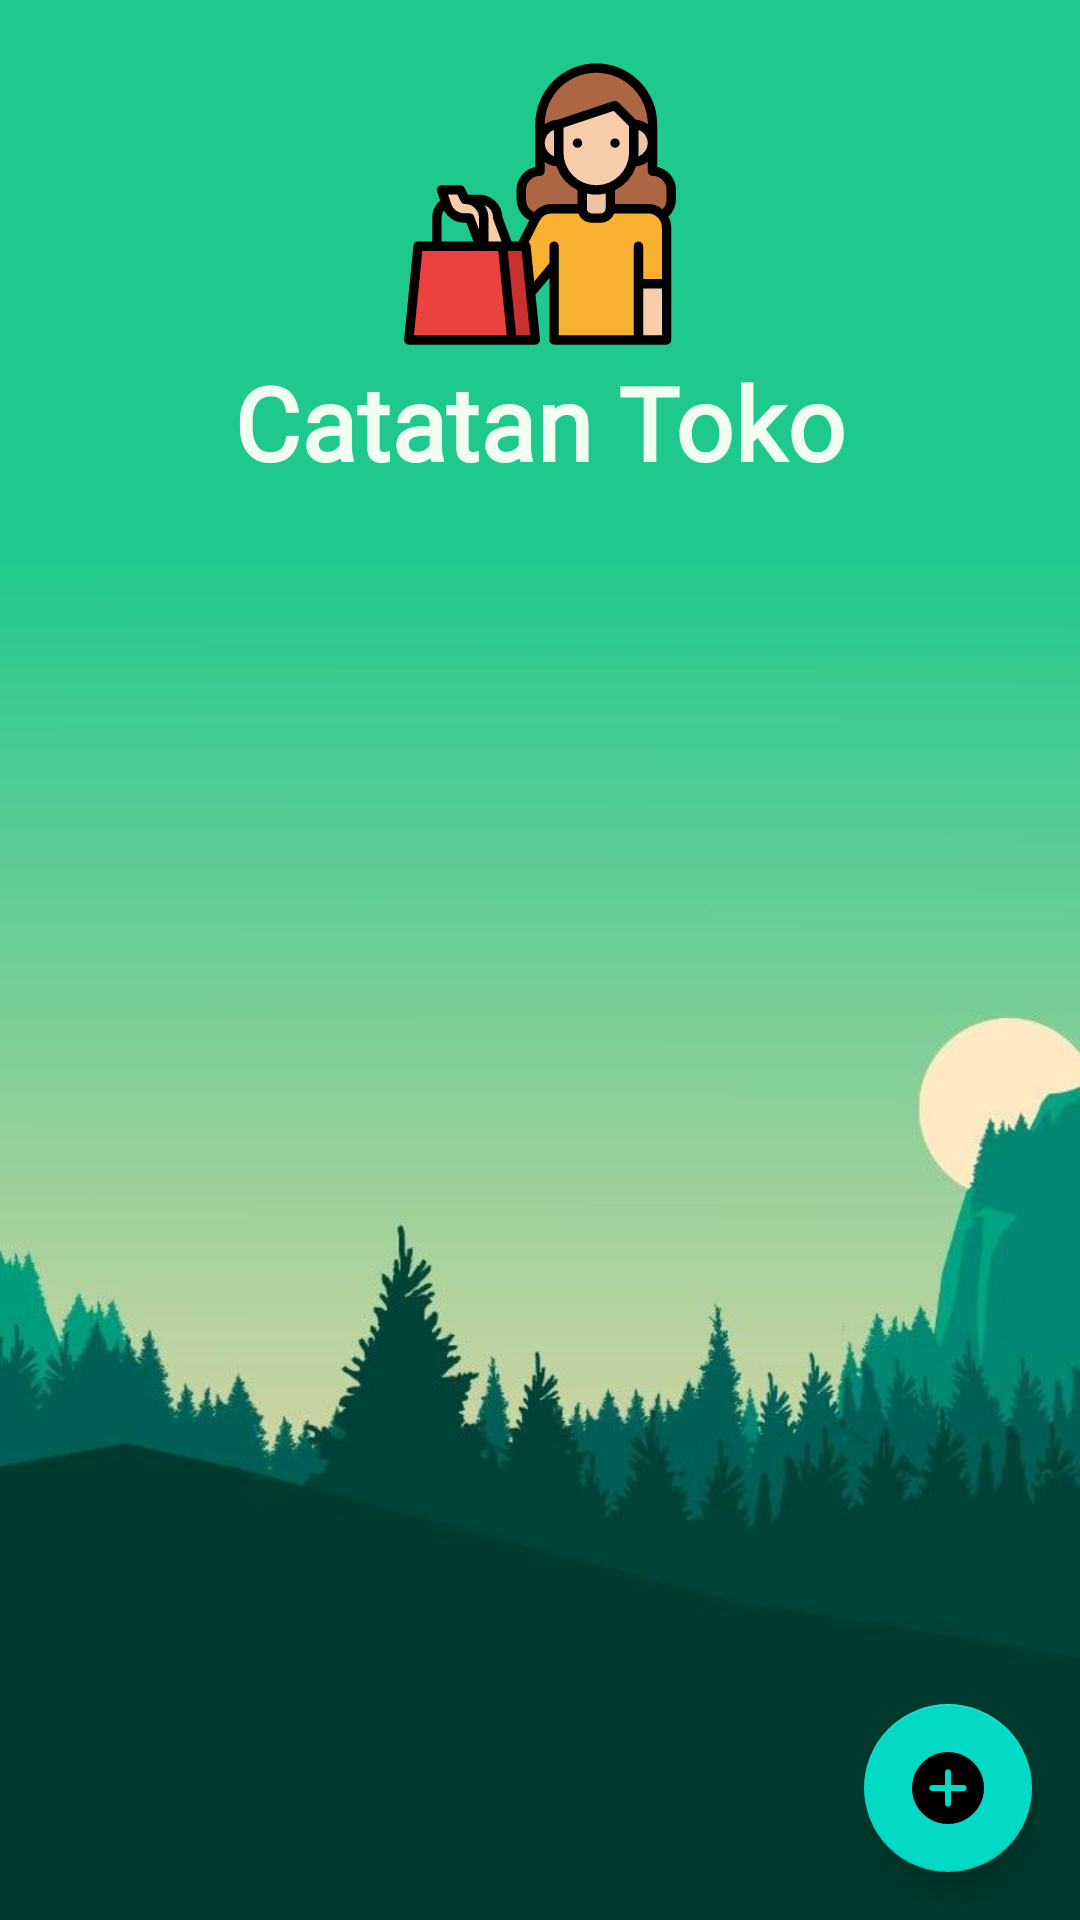

Screen size 1080w x 1920h. Icon name, then its center in pixels as (x,y):
customer: (540,204)
plus: (948,1788)
